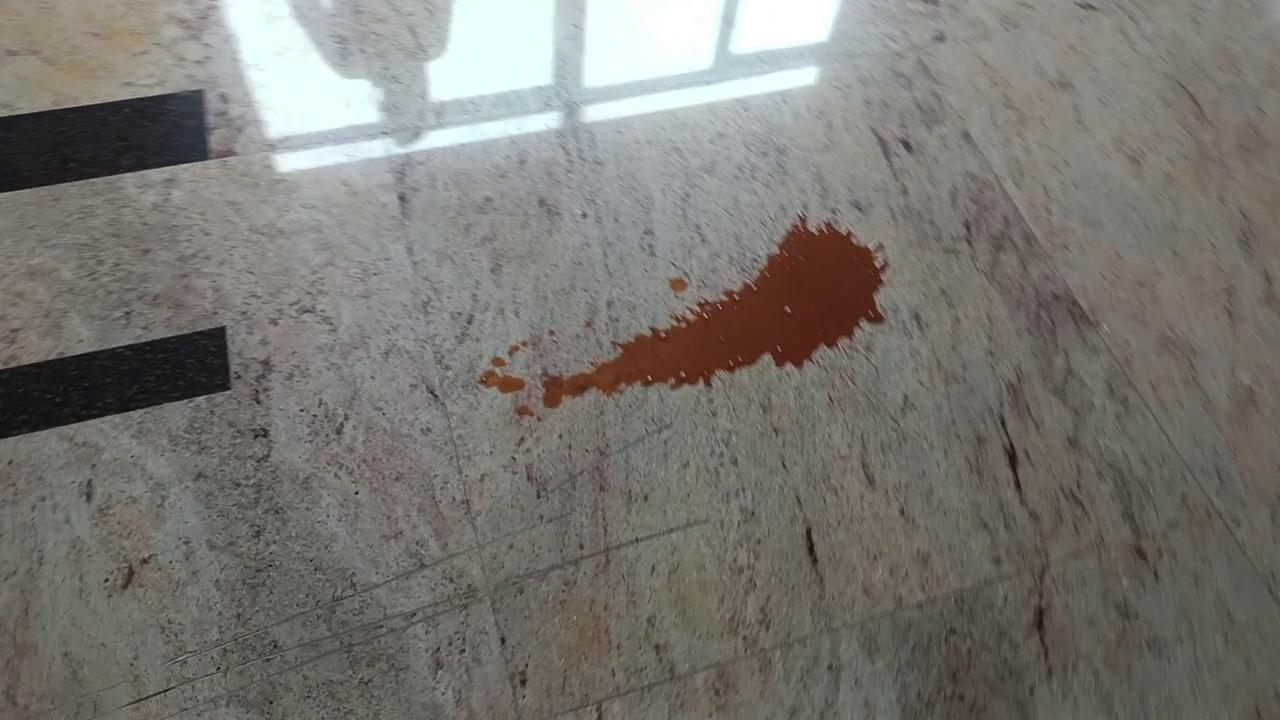dirty_floor: (476, 212, 888, 420)
